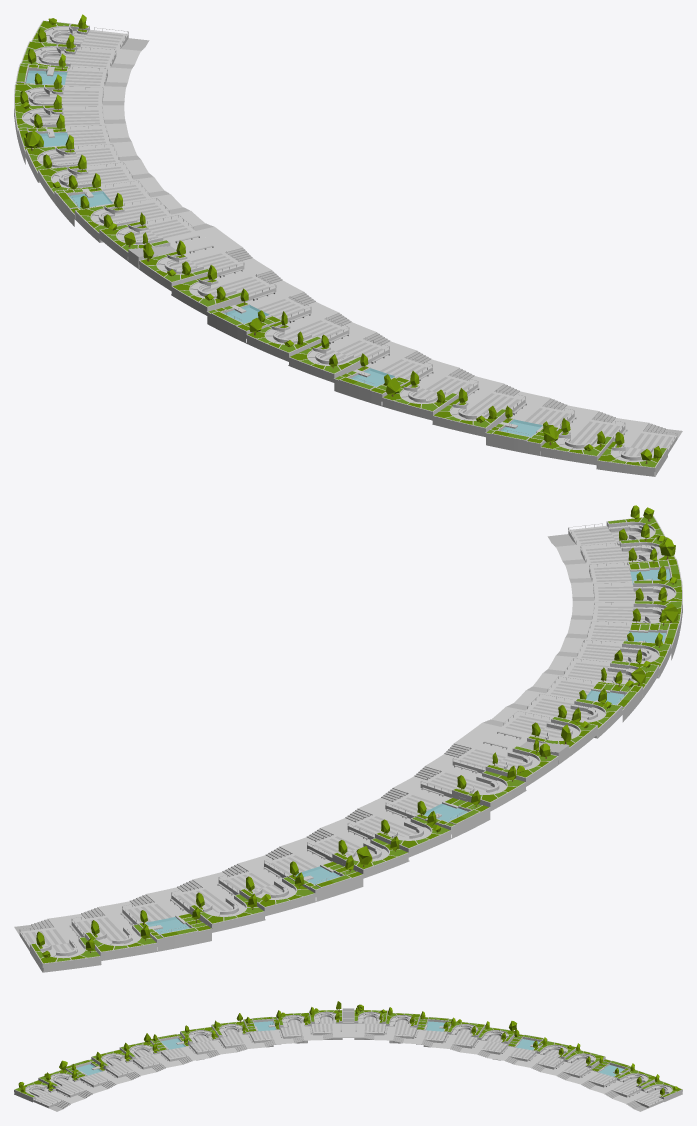
File: ring6_segment.glb
3 views of the same model, one above another, from view 1: azimuth 30°, elevation 25°; view 2: azimuth 150°, elevation 25°; view 3: azimuth 270°, elevation 25° (orthographic). The views are drawn at different scales.
Visible parts, largest first — view 1: RING_6_MOD; view 2: RING_6_MOD; view 3: RING_6_MOD.
Boxes of the visible parts, x1,y1,x2,y2 form: RING_6_MOD: [14, 14, 682, 476]; RING_6_MOD: [14, 505, 682, 972]; RING_6_MOD: [14, 1001, 682, 1111].
Size of the model in its own units: 6631 by 1535 by 24830.
Materials: 8 (1 with a texture image).
